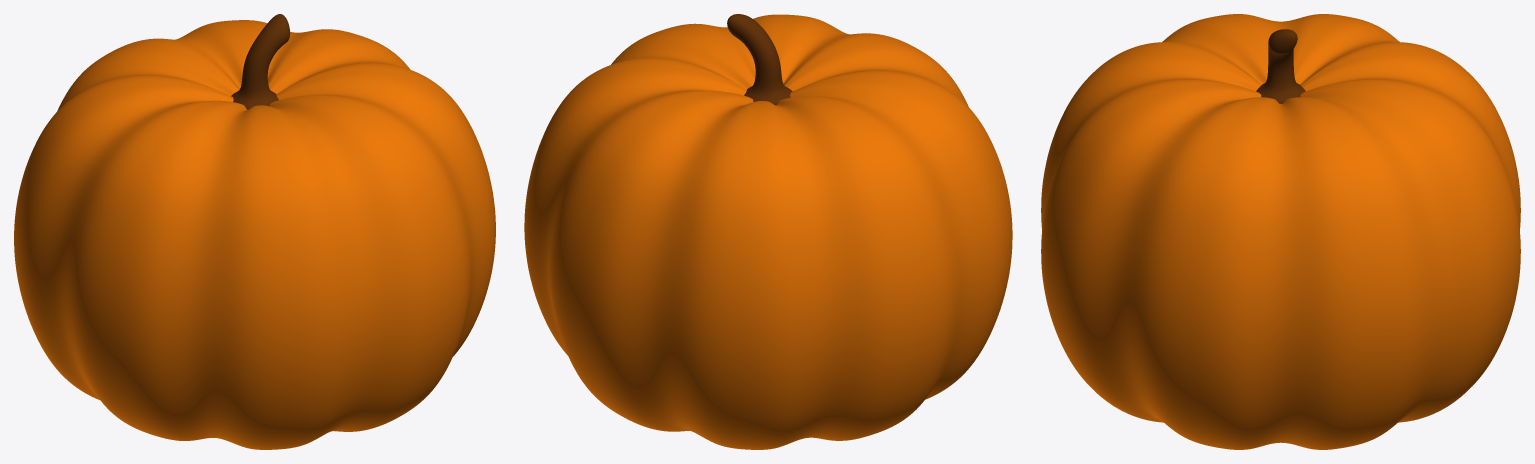
File: Pumpkin.fbx
3 views of the same model, side by side, from view 1: azimuth 30°, elevation 25°; view 2: azimuth 150°, elevation 25°; view 3: azimuth 270°, elevation 25° (orthographic). The views are drawn at different scales.
Visible parts, largest first — view 1: Sphere, Cube; view 2: Sphere, Cube; view 3: Sphere, Cube.
Part boxes in pixels (left/top/right/bottom): Sphere: left=14, top=20, right=495, bottom=449; Cube: left=231, top=14, right=290, bottom=109; Sphere: left=524, top=14, right=1012, bottom=449; Cube: left=727, top=14, right=792, bottom=105; Sphere: left=1041, top=14, right=1520, bottom=449; Cube: left=1256, top=29, right=1305, bottom=103.
Bounding box in the file's own units: 191 × 167 × 191.
